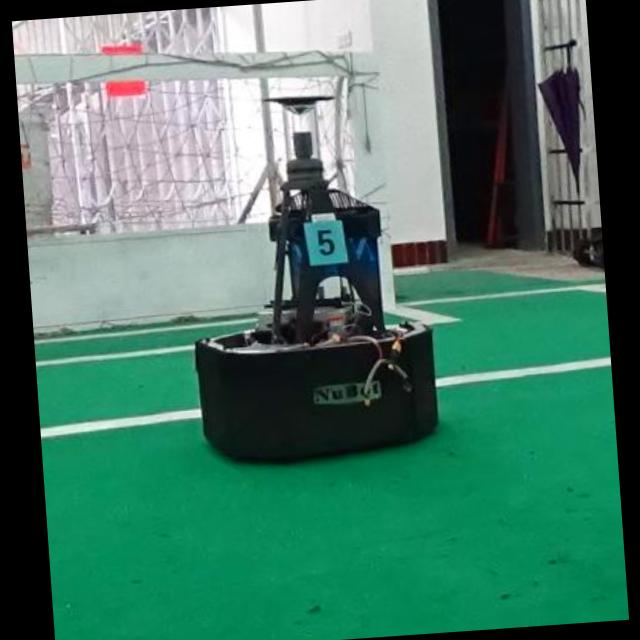goal: (345, 53, 394, 308)
robot: (195, 129, 438, 459), (270, 97, 332, 115)
